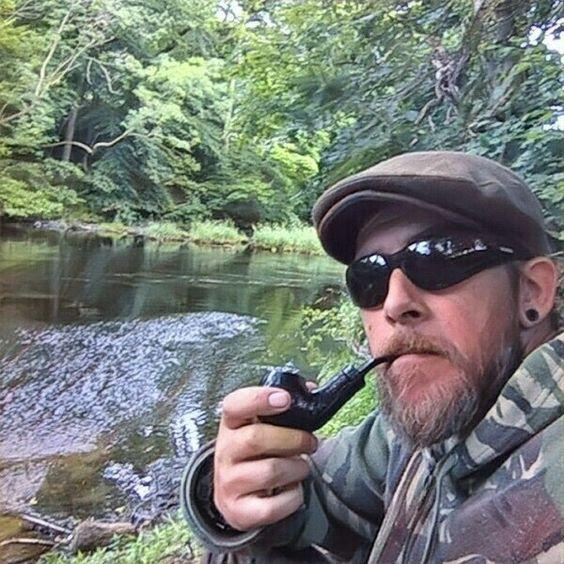trubka: (260, 357, 394, 432)
